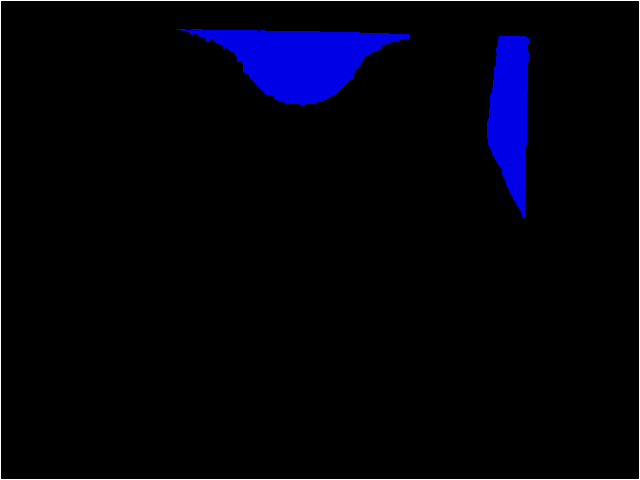defect: (175, 26, 411, 107), (485, 33, 535, 222)
